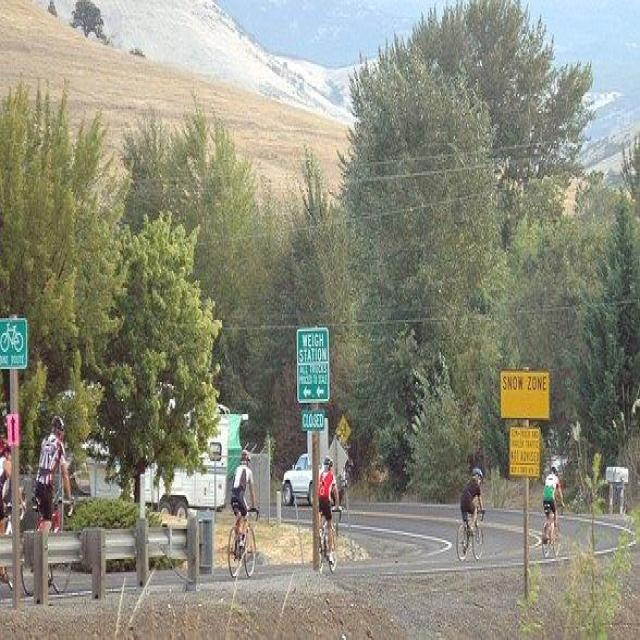bikerider: (220, 446, 264, 582), (447, 456, 491, 564), (306, 452, 342, 564), (536, 461, 567, 561)
